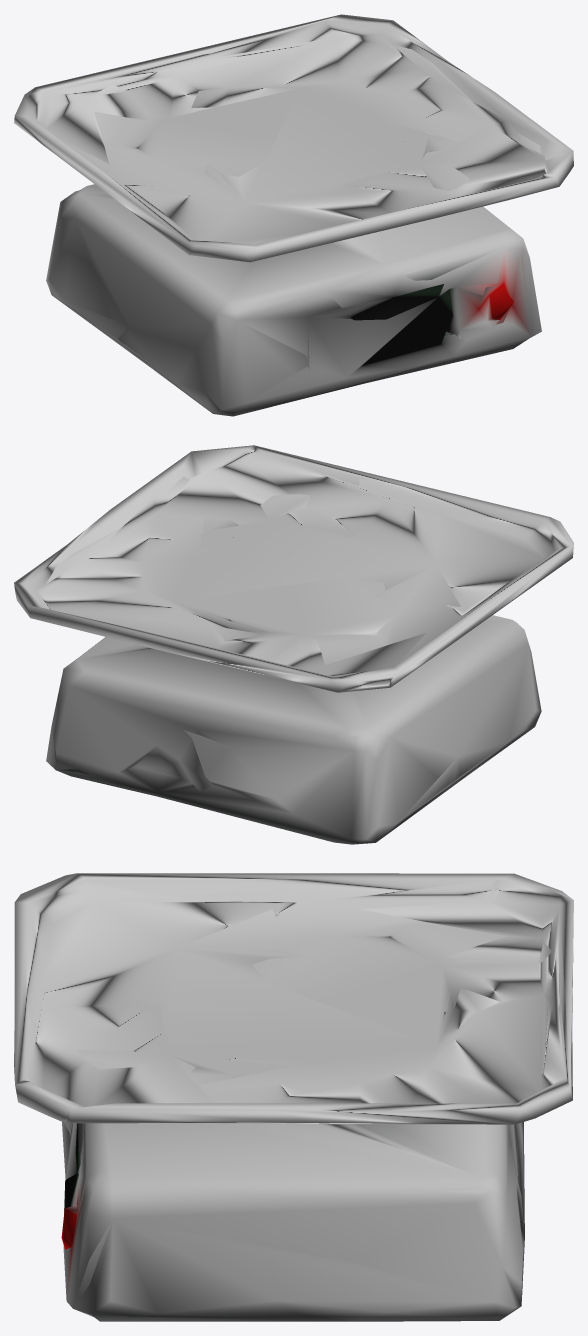
File: gen3d-deli-scale-lod1.glb
The picture shows the model from 3 angles, top to bottom: view 1: azimuth 30°, elevation 25°; view 2: azimuth 150°, elevation 25°; view 3: azimuth 270°, elevation 25°; orthographic projection. The views are drawn at different scales.
Visible parts, largest first — view 1: part_0; view 2: part_0; view 3: part_0.
Part boxes in pixels (bbox=[...]): part_0: bbox=[14, 14, 573, 416]; part_0: bbox=[14, 445, 573, 844]; part_0: bbox=[14, 873, 573, 1321].
Bounding box in the file's own units: 2.11 × 0.9988 × 2.11.
